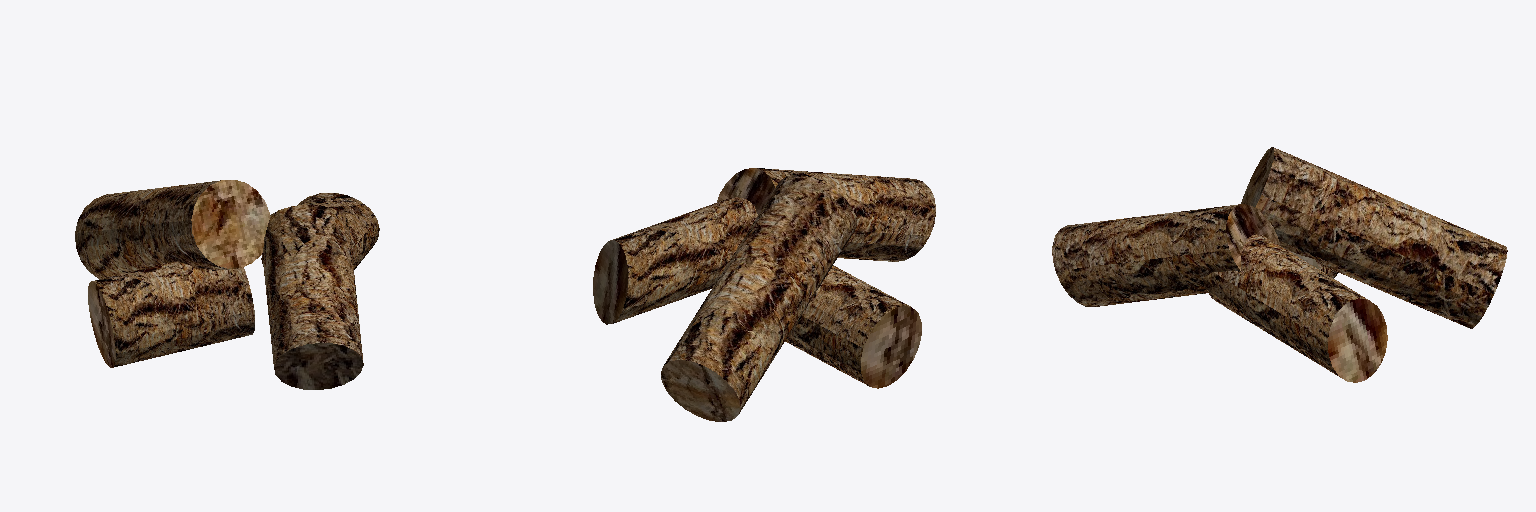
3 renders of one model, left to right at view 1: azimuth 30°, elevation 25°; view 2: azimuth 150°, elevation 25°; view 3: azimuth 270°, elevation 25°, orthographic.
Parts seen in each view (by area): view 1: Fogata:Fogata2:pCylinder1 Fogata:group2, Fogata:pCylinder1, Fogata:Fogata:pCylinder1 Fogata:group, Fogata:Fogata1:pCylinder1 Fogata:group1; view 2: Fogata:pCylinder1, Fogata:Fogata1:pCylinder1 Fogata:group1, Fogata:Fogata:pCylinder1 Fogata:group, Fogata:Fogata2:pCylinder1 Fogata:group2; view 3: Fogata:pCylinder1, Fogata:Fogata2:pCylinder1 Fogata:group2, Fogata:Fogata1:pCylinder1 Fogata:group1.
Part boxes in pixels (bbox=[...]): Fogata:Fogata2:pCylinder1 Fogata:group2: bbox=[262, 205, 363, 389]; Fogata:pCylinder1: bbox=[75, 180, 270, 278]; Fogata:Fogata:pCylinder1 Fogata:group: bbox=[88, 262, 254, 367]; Fogata:Fogata1:pCylinder1 Fogata:group1: bbox=[261, 193, 379, 269]; Fogata:pCylinder1: bbox=[661, 175, 856, 421]; Fogata:Fogata1:pCylinder1 Fogata:group1: bbox=[593, 197, 757, 324]; Fogata:Fogata:pCylinder1 Fogata:group: bbox=[785, 265, 921, 388]; Fogata:Fogata2:pCylinder1 Fogata:group2: bbox=[717, 168, 935, 261]; Fogata:pCylinder1: bbox=[1241, 147, 1507, 328]; Fogata:Fogata2:pCylinder1 Fogata:group2: bbox=[1052, 204, 1279, 306]; Fogata:Fogata1:pCylinder1 Fogata:group1: bbox=[1202, 234, 1387, 382].
Bounding box in the file's own units: 2.19 × 1.22 × 2.91.
1 materials, 1 textured.